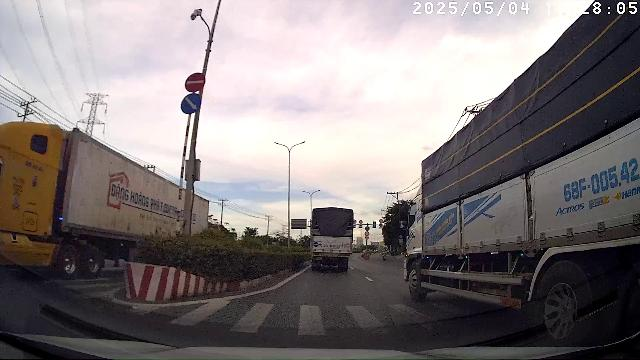102-cam-di-nguoc-chieu: (183, 70, 206, 92)
302a-huong-phai-di-vong-chuong-ngai-vat-1: (180, 93, 202, 115)
